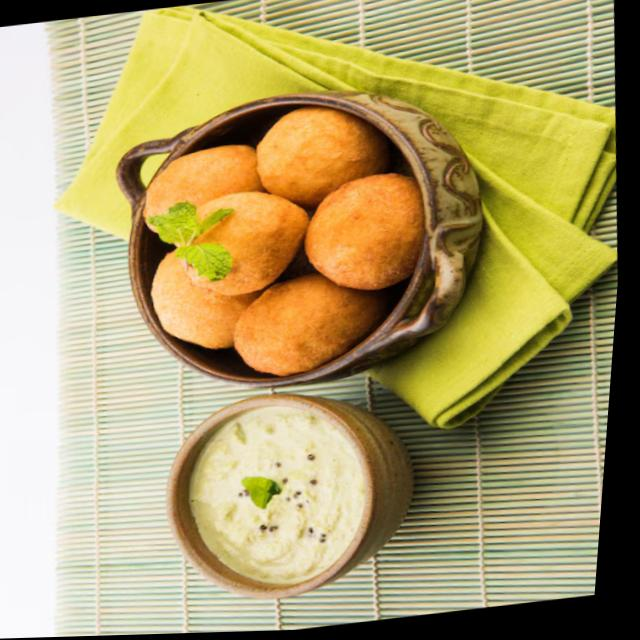BONDA: (144, 107, 422, 372)
WHITE CHUTNEY: (187, 409, 365, 585)
